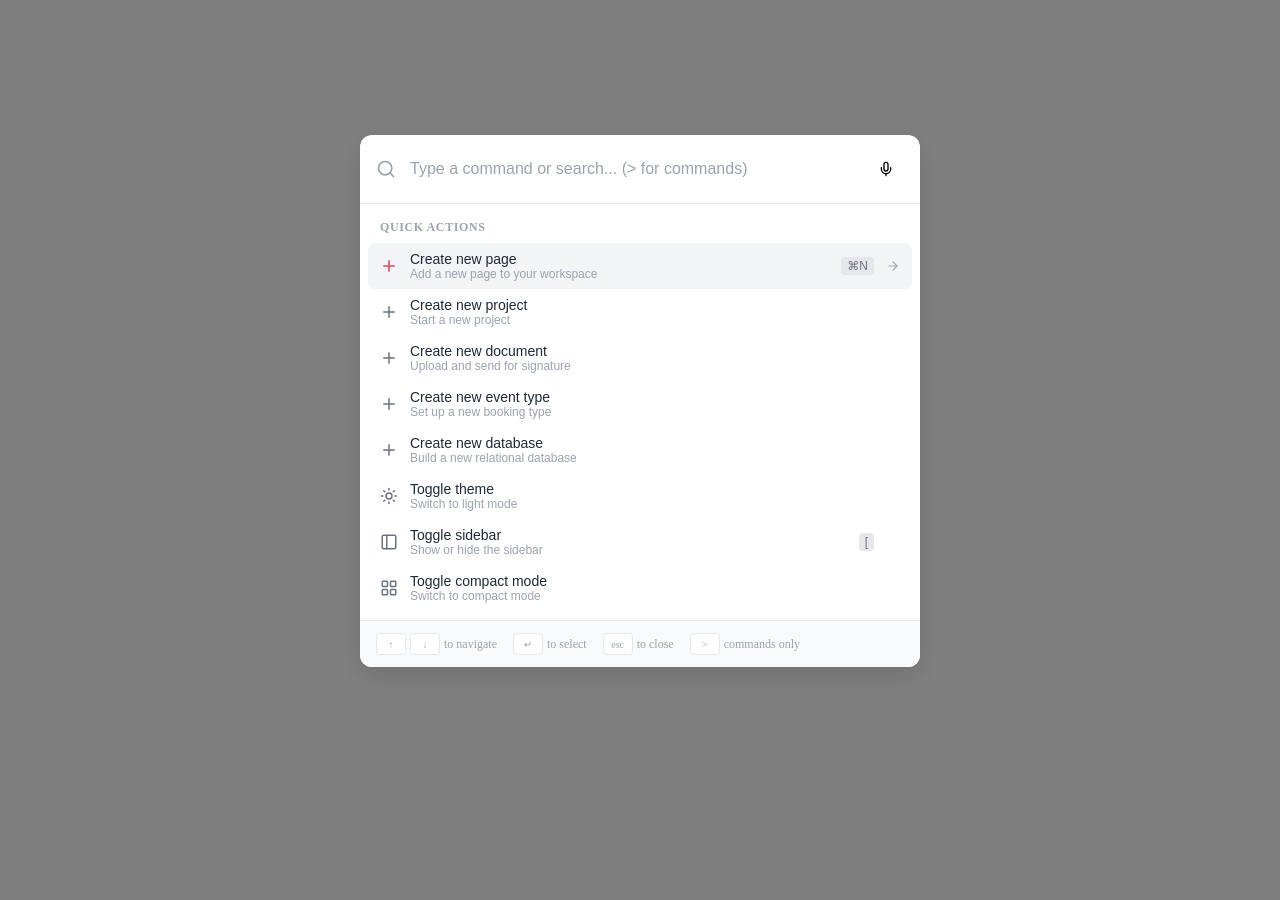
Scenario: CommandPalette › > prefix filters to commands only, hiding content results
The image size is (1280, 900).
Type ">home" into the field with placeholder "Type a command or search... (> for commands)" at (632, 169), box [408,159,856,179]
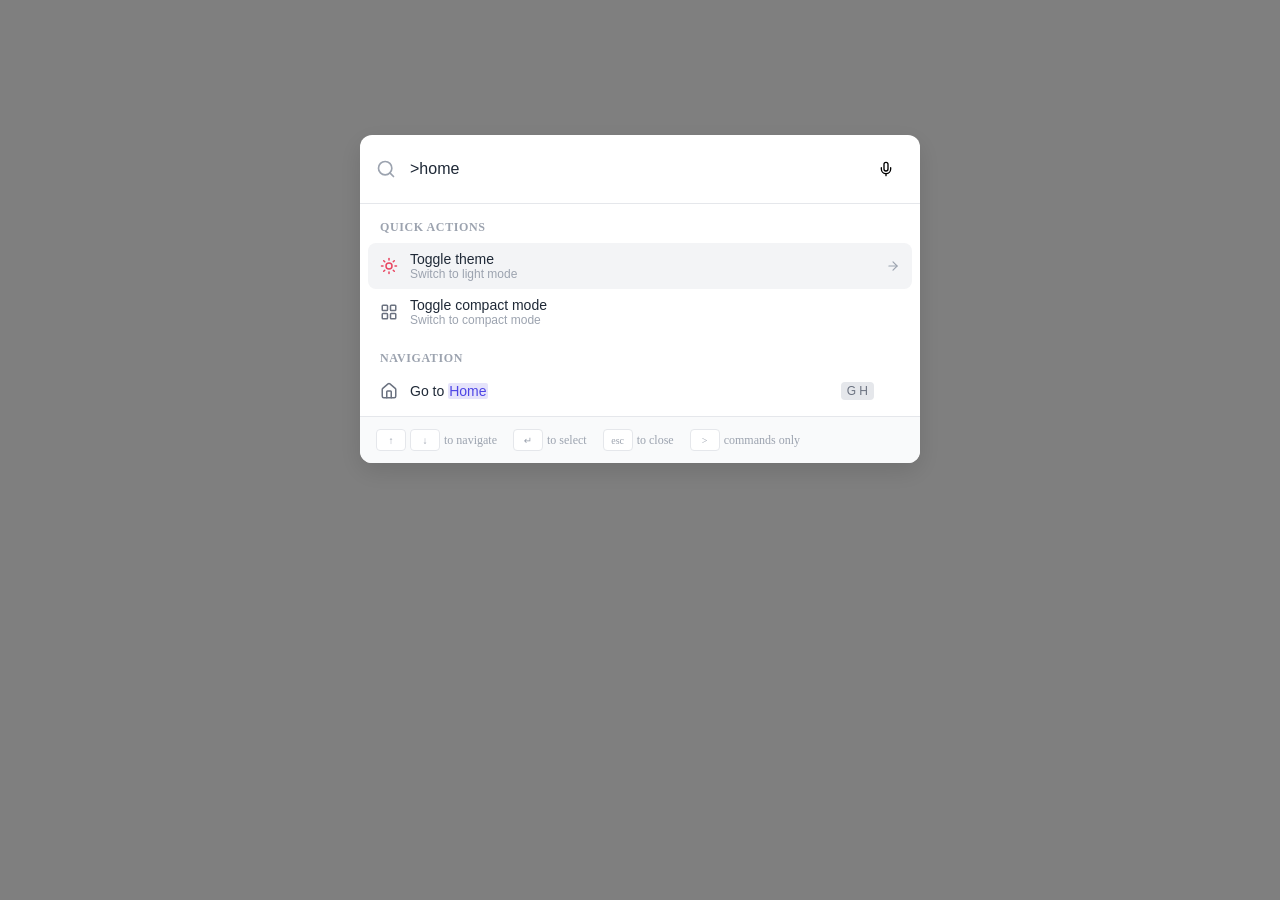
Expected: the text "Home" is shown, [448,383,488,399]
